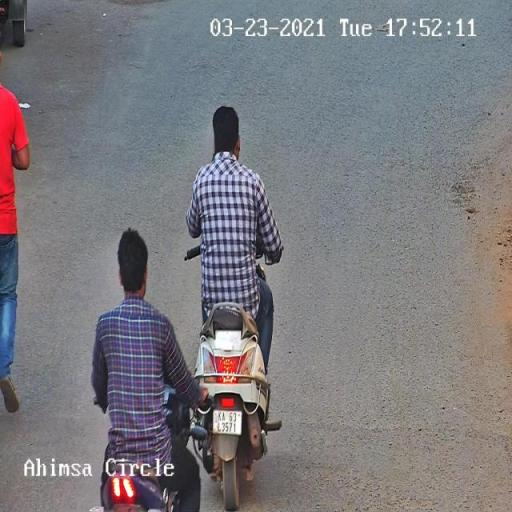numberplate: (213, 406, 243, 436)
using mobile: (210, 135, 218, 164)
